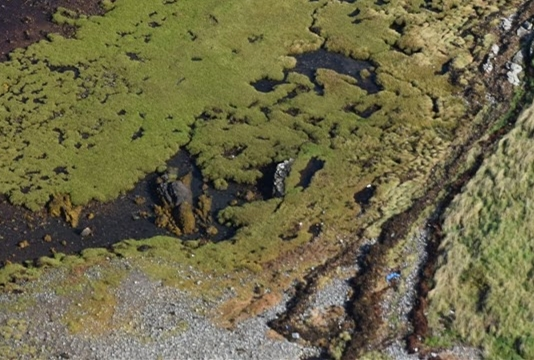white_in_green: (376, 259, 414, 295)
